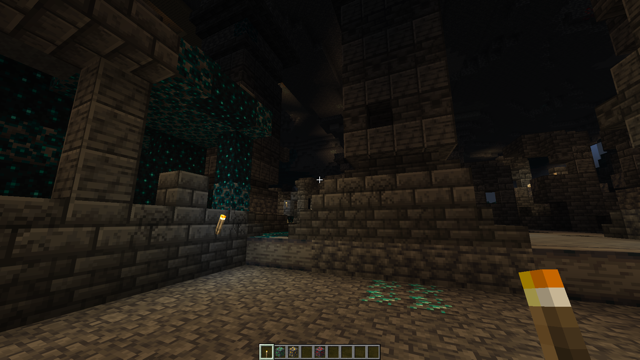diamond: (356, 273, 450, 316)
